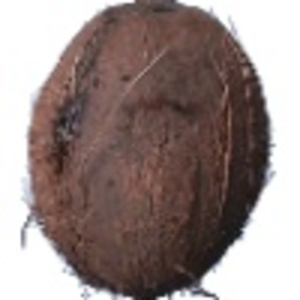coco: (21, 1, 276, 300)
